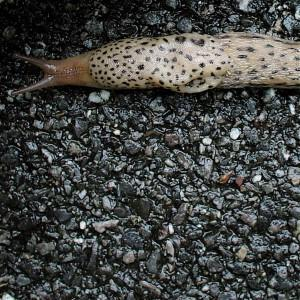slug: (6, 21, 300, 135)
